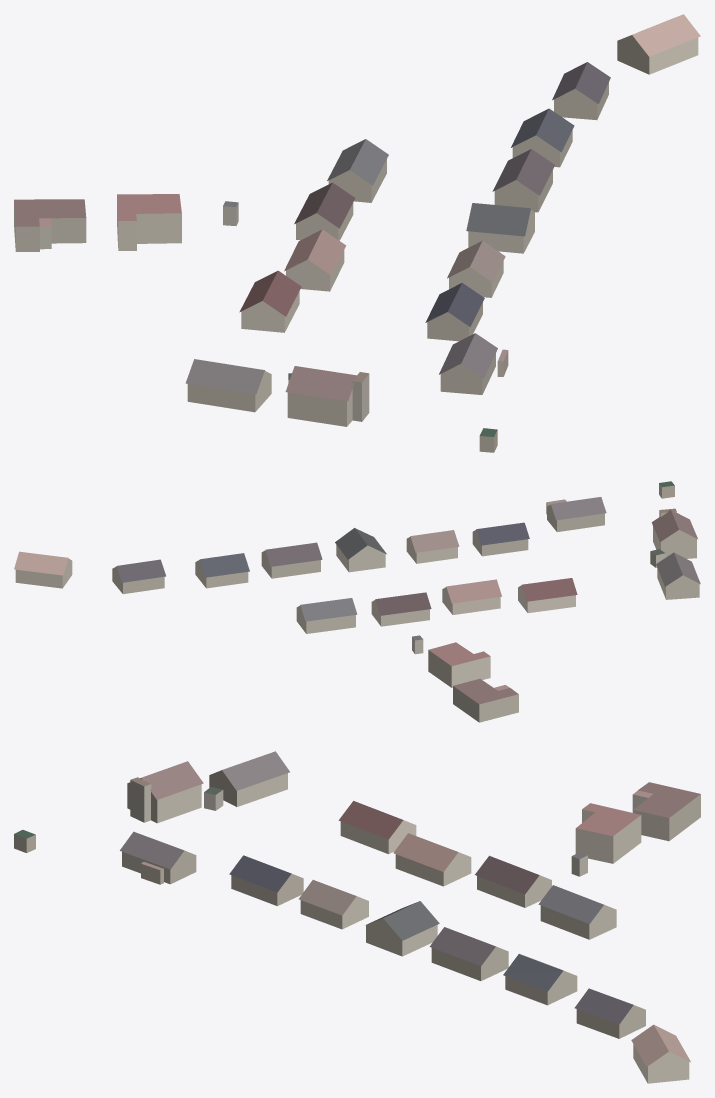
The picture shows the model from 3 angles, top to bottom: view 1: azimuth 30°, elevation 25°; view 2: azimuth 150°, elevation 25°; view 3: azimuth 270°, elevation 25°; orthographic projection. The views are drawn at different scales.
Parts seen in each view (by area): view 1: tuile; view 2: tuile; view 3: tuile.
Boxes of the visible parts, x1=… form: tuile: x1=14, y1=14, x2=700, y2=452; tuile: x1=14, y1=481, x2=700, y2=722; tuile: x1=14, y1=751, x2=700, y2=1083.
Size of the model in its own units: 165 by 13.99 by 147.
